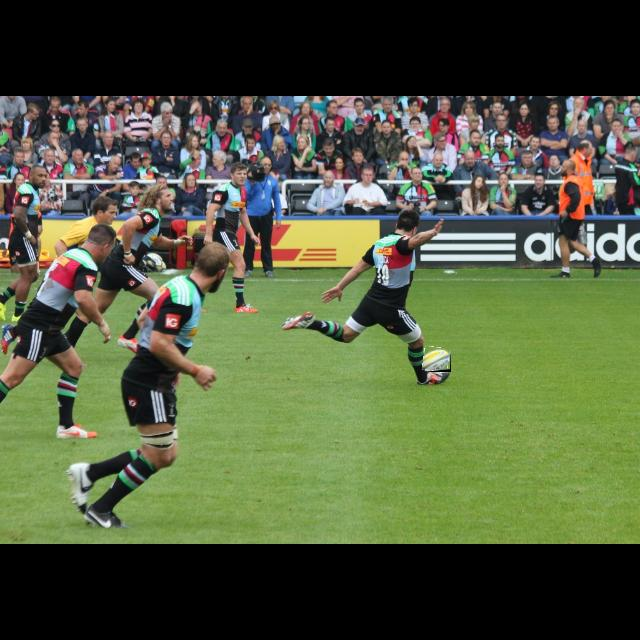Football: (423, 348, 451, 372)
